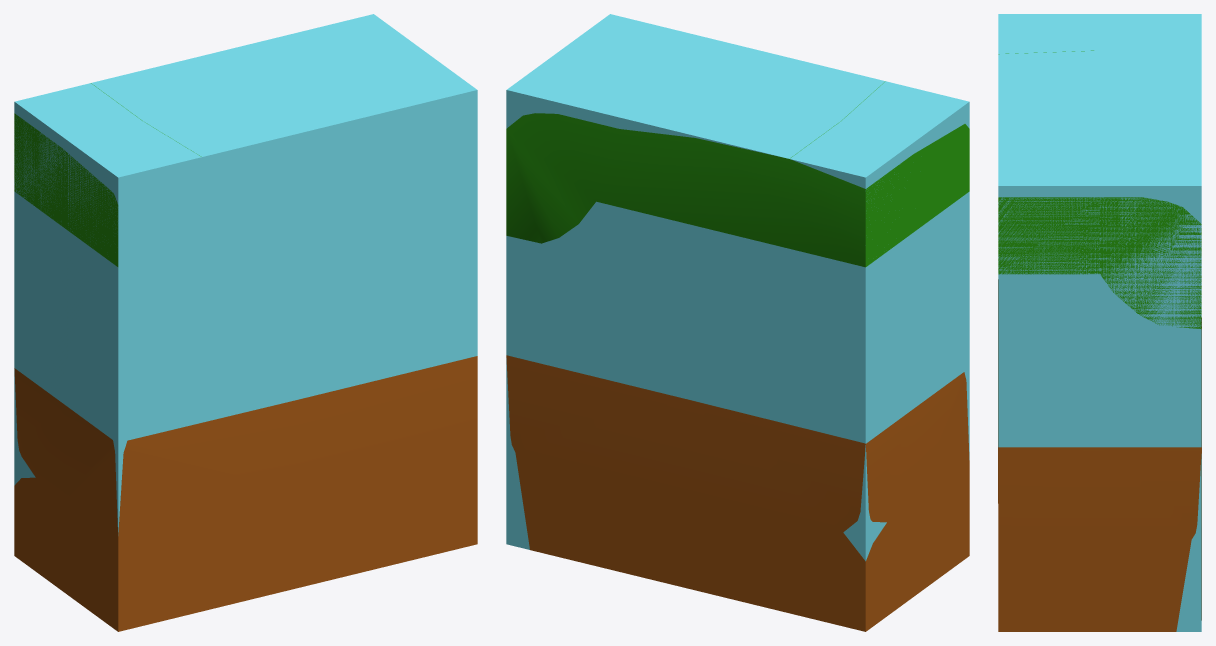
The model's file is PBOX2_Grass_02.FBX.
3 renders of one model, left to right at view 1: azimuth 30°, elevation 25°; view 2: azimuth 150°, elevation 25°; view 3: azimuth 270°, elevation 25°, orthographic.
Visible parts, largest first — view 1: PBOX2_Grass_02, PBOX1_SUB_TAB_MUD_01, PBOX2_SUB_Grass_02; view 2: PBOX2_Grass_02, PBOX1_SUB_TAB_MUD_01, PBOX2_SUB_Grass_02; view 3: PBOX2_Grass_02, PBOX1_SUB_TAB_MUD_01, PBOX2_SUB_Grass_02.
Part boxes in pixels (<box>): PBOX2_Grass_02: <box>14,14,477,535</box>; PBOX1_SUB_TAB_MUD_01: <box>14,356,477,631</box>; PBOX2_SUB_Grass_02: <box>14,83,201,266</box>; PBOX2_Grass_02: <box>506,14,969,561</box>; PBOX1_SUB_TAB_MUD_01: <box>506,355,969,631</box>; PBOX2_SUB_Grass_02: <box>506,81,969,267</box>; PBOX2_Grass_02: <box>998,14,1201,631</box>; PBOX1_SUB_TAB_MUD_01: <box>998,279,1201,631</box>; PBOX2_SUB_Grass_02: <box>998,50,1201,328</box>.
Size of the model in its own units: 12 by 14.5 by 6.
